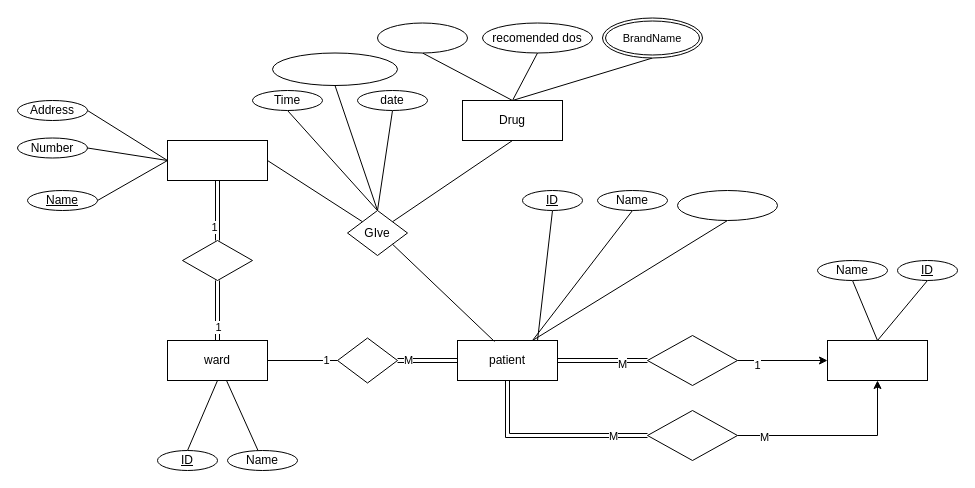
The diagram is 975 pixels wide and 488 high, and some of its shapes have lost their labels. The centre of each missing label's shape, as x and y in pixels:
"assigned to" goes at [692,360].
"codeNUM" goes at [422,37].
"consultant" goes at [877,360].
"DataofBirth" goes at [727,205].
"Examind" goes at [692,435].
"hoste" goes at [367,360].
"Nurse" goes at [217,160].
"specified dosage" goes at [335,69].
"supervise" goes at [217,260].
